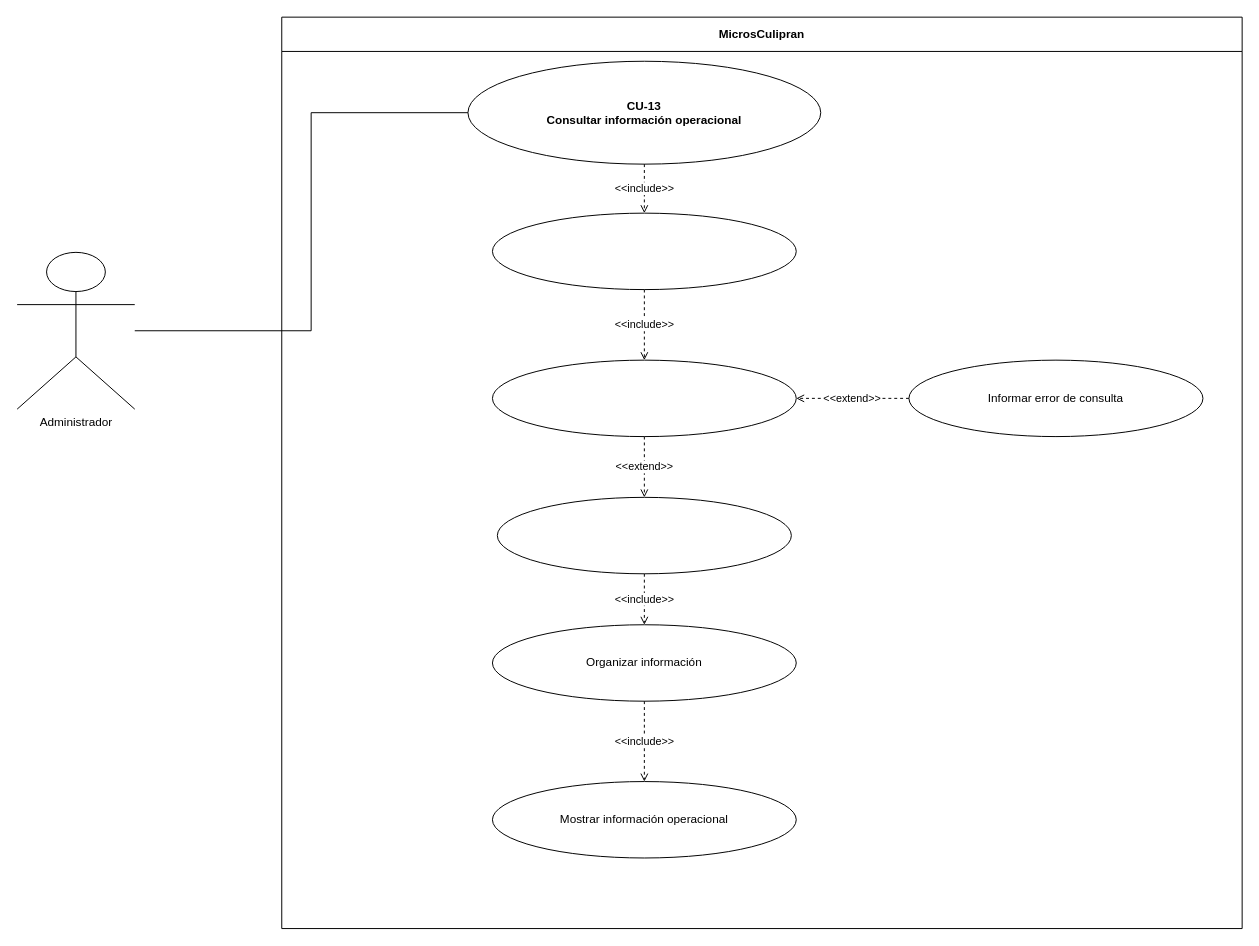
This 1259x946 diagram has some shape labels left out. The shapes that lost their labels are listed below. From the top down, each one's centre as x and y in pixels, then its label:
At (643,251): "Autenticar administrador".
At (643,398): "Consultar datos operacionales".
At (643,535): "Mostrar datos disponibles".
